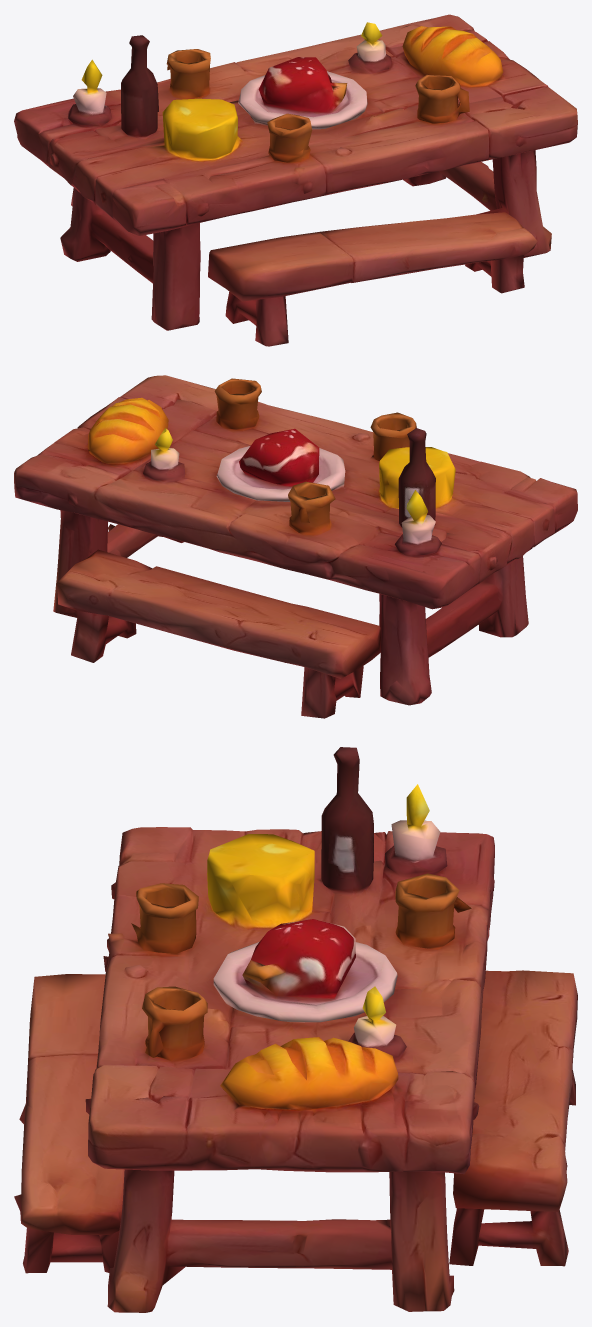
Rendered from feast_table-CQGnv4hN.glb.
3 renders of one model, top to bottom at view 1: azimuth 30°, elevation 25°; view 2: azimuth 150°, elevation 25°; view 3: azimuth 270°, elevation 25°, orthographic. The views are drawn at different scales.
Visible parts, largest first — view 1: tripo_node_96dc0aa7-ee67-427a-9bfe-2250da888c64; view 2: tripo_node_96dc0aa7-ee67-427a-9bfe-2250da888c64; view 3: tripo_node_96dc0aa7-ee67-427a-9bfe-2250da888c64.
Part boxes in pixels (x1,y1,x2,y2): tripo_node_96dc0aa7-ee67-427a-9bfe-2250da888c64: (14, 14, 577, 346); tripo_node_96dc0aa7-ee67-427a-9bfe-2250da888c64: (14, 375, 577, 718); tripo_node_96dc0aa7-ee67-427a-9bfe-2250da888c64: (14, 747, 577, 1312).
Bounding box in the file's own units: 1 × 0.5031 × 0.7707.
1 material, 1 textured.
